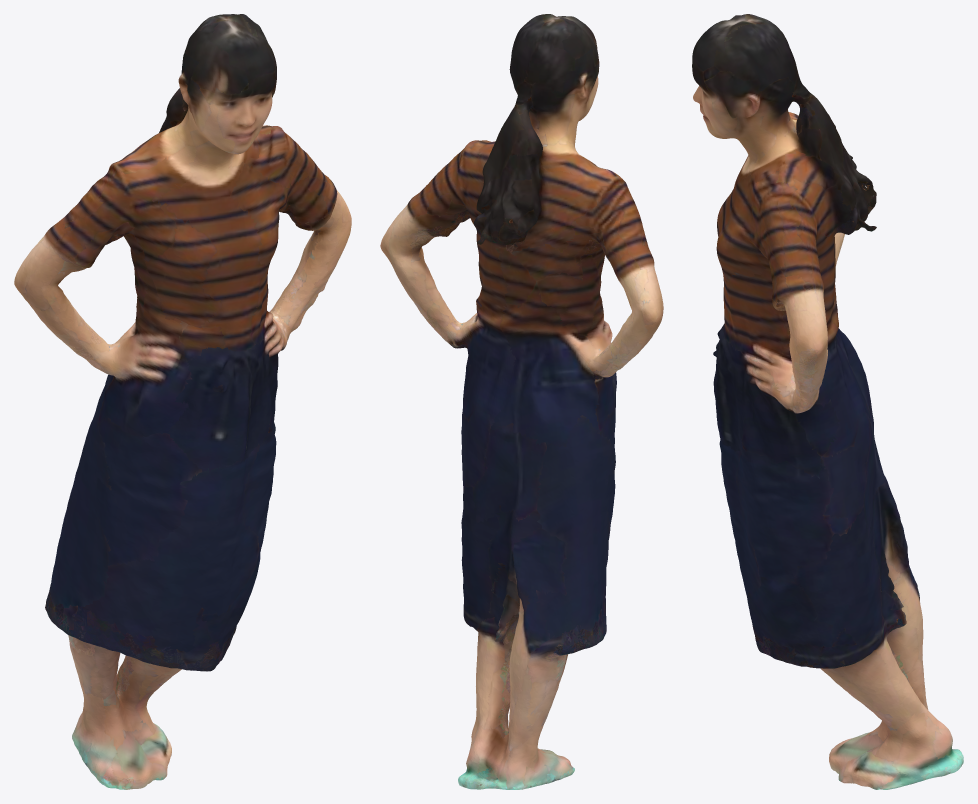
The model's file is person3-transformed.glb.
The picture shows the model from 3 angles, left to right: view 1: azimuth 30°, elevation 25°; view 2: azimuth 150°, elevation 25°; view 3: azimuth 270°, elevation 25°; orthographic projection. The views are drawn at different scales.
Parts seen in each view (by area): view 1: Object_2; view 2: Object_2; view 3: Object_2.
Part boxes in pixels (x1,y1,x2,y2): Object_2: [14, 14, 351, 789]; Object_2: [380, 14, 663, 789]; Object_2: [692, 14, 963, 789].
Bounding box in the file's own units: 0.6851 × 1.61 × 0.5153.
Materials: 1 (1 with a texture image).
